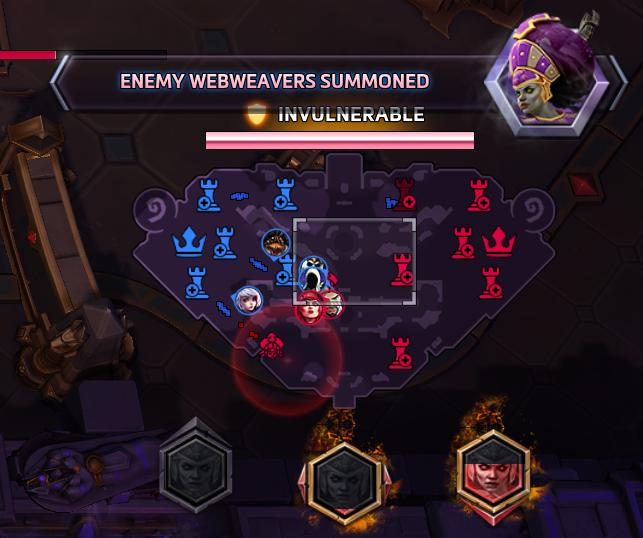blue nexus: (170, 224, 207, 257)
blue player: (296, 255, 330, 292), (261, 228, 291, 262), (232, 285, 263, 315)
blue tower: (272, 176, 298, 211), (184, 264, 210, 299), (196, 177, 221, 212), (212, 224, 237, 259), (274, 253, 296, 286)
red nexus: (482, 224, 516, 257)
red player: (293, 289, 326, 325), (319, 290, 345, 318)
red tower: (477, 265, 503, 299), (387, 335, 413, 369), (389, 251, 414, 286), (466, 177, 491, 212), (450, 225, 475, 259), (392, 176, 416, 210)
